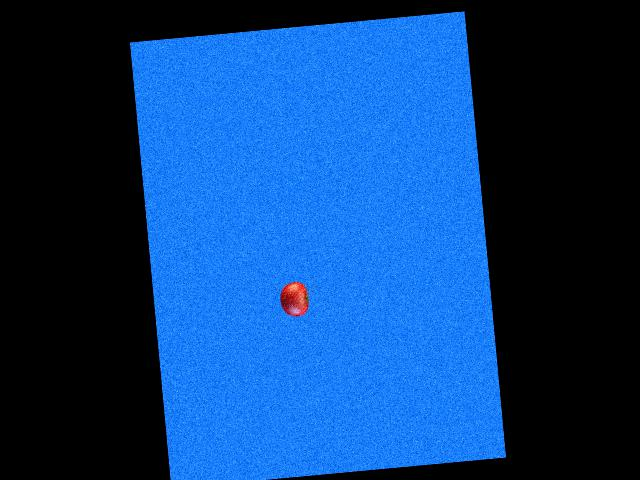tomato: (278, 281, 309, 318)
